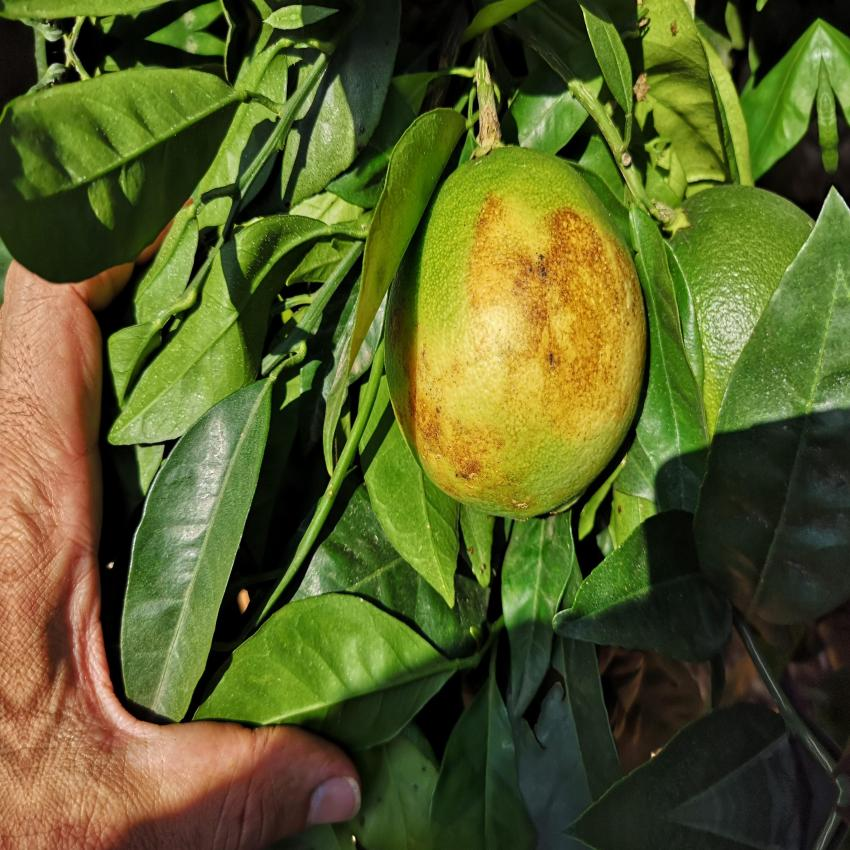Mal estado: (373, 134, 674, 498)
